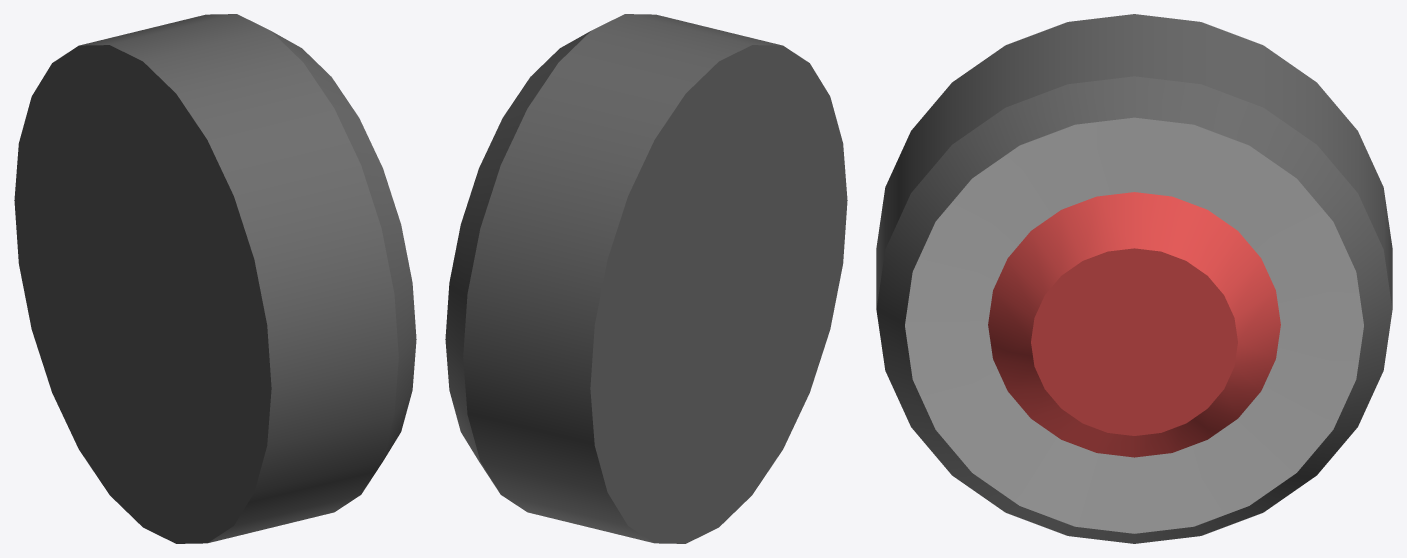
Rendered from wheelRed.fbx.
The picture shows the model from 3 angles, left to right: view 1: azimuth 30°, elevation 25°; view 2: azimuth 150°, elevation 25°; view 3: azimuth 270°, elevation 25°; orthographic projection.
Visible parts, largest first — view 1: wheelRed; view 2: wheelRed; view 3: wheelRed.
Boxes of the visible parts, box(x1,y1,x2,y2) form: wheelRed: box(14, 14, 416, 543); wheelRed: box(445, 14, 847, 543); wheelRed: box(876, 14, 1392, 543).
Size of the model in its own units: 1.21 by 2.8 by 2.8.
